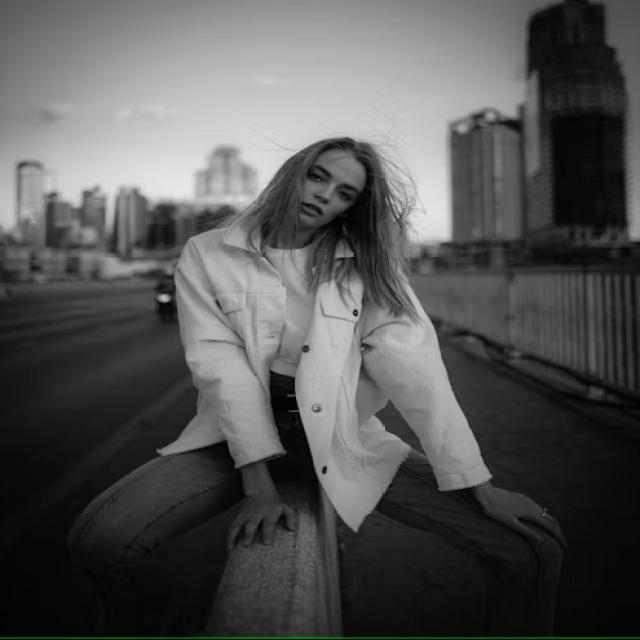Edited images: (97, 109, 582, 590)
